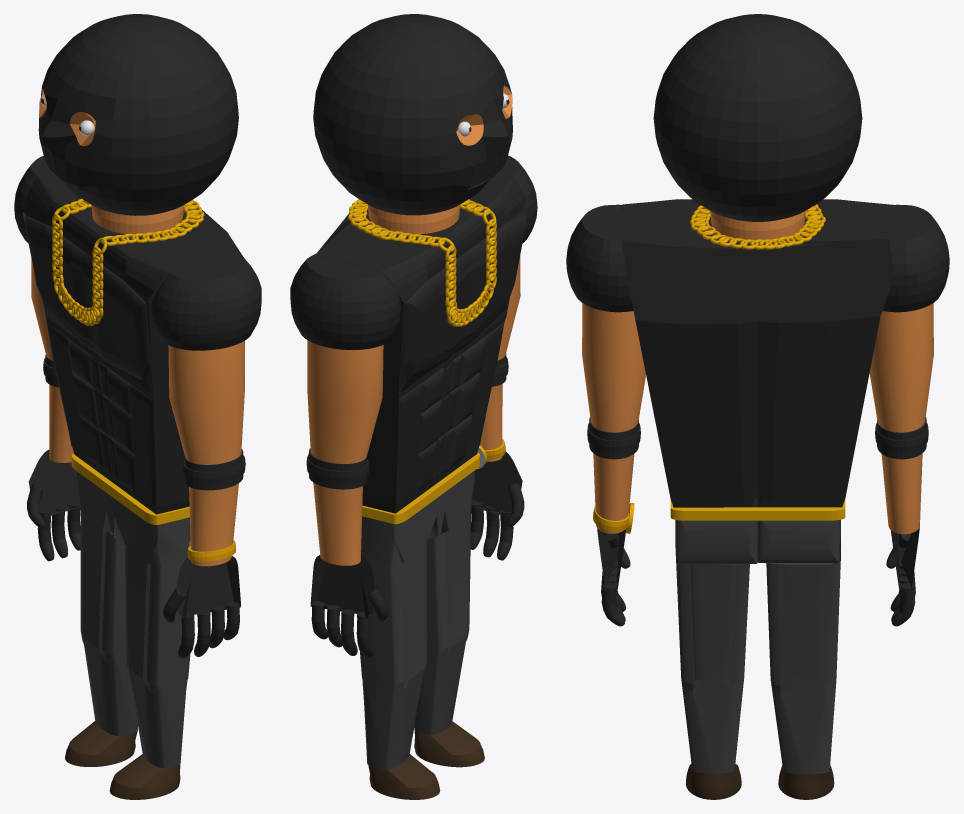
Rendered from person_model.fbx.
The picture shows the model from 3 angles, left to right: view 1: azimuth 30°, elevation 25°; view 2: azimuth 150°, elevation 25°; view 3: azimuth 270°, elevation 25°; orthographic projection. The views are drawn at different scales.
Visible parts, largest first — view 1: Cube, Sphere, Cube.001, Cylinder.004, Sphere.001, Cylinder.006, Cylinder.003, Torus.021, Circle, Circle.001, Cylinder.001, Torus (+5 smaller); view 2: Cube, Sphere, Cube.001, Cylinder.001, Sphere.003, Cylinder.003, Cylinder.006, Torus.021, Circle, Circle.001, Cylinder.004, Torus (+4 smaller); view 3: Cube, Sphere, Cube.001, Cylinder.001, Cylinder.004, Sphere.001, Sphere.003, Cube.002, Torus.021, Cylinder.006, Cylinder.003, Torus (+6 smaller).
Boxes of the visible parts, x1=… form: Cube: x1=22, y1=172, x2=244, y2=514; Sphere: x1=38, y1=14, x2=238, y2=215; Cube.001: x1=77, y1=472, x2=190, y2=767; Cylinder.004: x1=168, y1=340, x2=244, y2=566; Sphere.001: x1=150, y1=255, x2=261, y2=350; Cylinder.006: x1=163, y1=556, x2=240, y2=658; Cylinder.003: x1=27, y1=449, x2=80, y2=561; Torus.021: x1=52, y1=198, x2=204, y2=325; Circle: x1=109, y1=754, x2=180, y2=799; Circle.001: x1=65, y1=721, x2=137, y2=766; Cylinder.001: x1=31, y1=258, x2=73, y2=462; Torus: x1=91, y1=205, x2=184, y2=234; Cube: x1=316, y1=172, x2=526, y2=513; Sphere: x1=313, y1=14, x2=512, y2=215; Cube.001: x1=357, y1=471, x2=474, y2=768; Cylinder.001: x1=307, y1=340, x2=383, y2=565; Sphere.003: x1=290, y1=253, x2=401, y2=349; Cylinder.003: x1=310, y1=554, x2=388, y2=657; Cylinder.006: x1=470, y1=451, x2=524, y2=560; Torus.021: x1=348, y1=199, x2=496, y2=326; Circle: x1=414, y1=721, x2=484, y2=767; Circle.001: x1=368, y1=754, x2=440, y2=799; Cylinder.004: x1=480, y1=256, x2=520, y2=461; Torus: x1=368, y1=205, x2=460, y2=234; Cube: x1=622, y1=199, x2=894, y2=507; Sphere: x1=653, y1=14, x2=862, y2=221; Cube.001: x1=675, y1=520, x2=840, y2=773; Cylinder.001: x1=869, y1=303, x2=933, y2=534; Cylinder.004: x1=582, y1=303, x2=645, y2=533; Sphere.001: x1=566, y1=204, x2=633, y2=312; Sphere.003: x1=882, y1=204, x2=949, y2=312; Cube.002: x1=670, y1=499, x2=845, y2=520; Torus.021: x1=690, y1=204, x2=825, y2=249; Cylinder.006: x1=597, y1=526, x2=630, y2=626; Cylinder.003: x1=886, y1=524, x2=919, y2=626; Torus: x1=710, y1=211, x2=805, y2=239.
Bounding box in the file's own units: 93.81 × 362 × 164.
